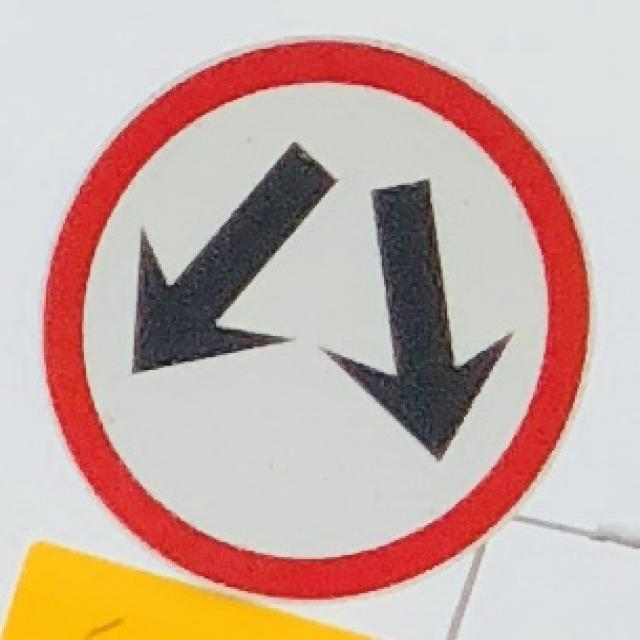pass either side: (38, 40, 596, 603)
